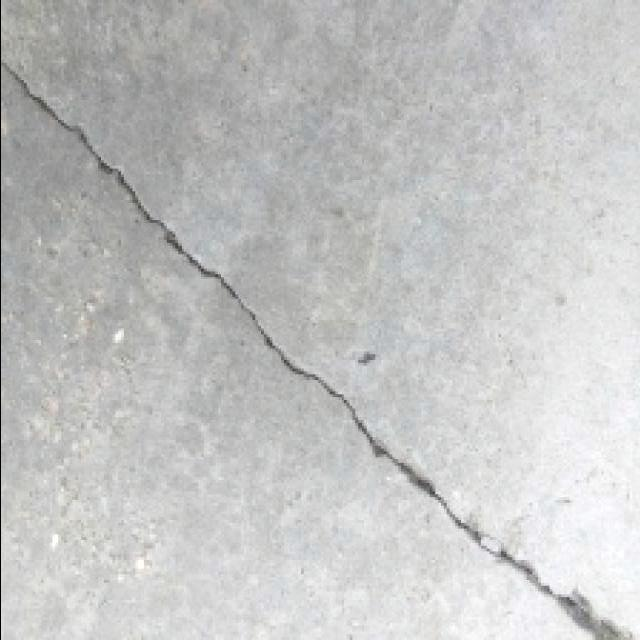SurfaceCrack: (6, 36, 610, 640)
